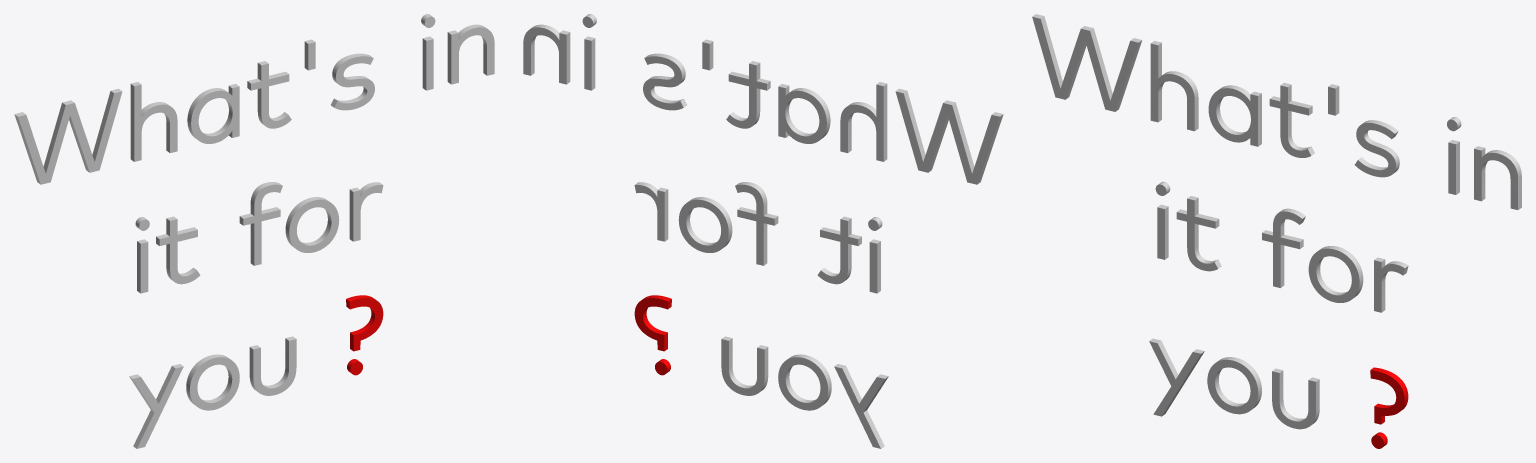
File: Whats in it for you.fbx
3 renders of one model, left to right at view 1: azimuth 30°, elevation 25°; view 2: azimuth 150°, elevation 25°; view 3: azimuth 330°, elevation 25°, orthographic.
Visible parts, largest first — view 1: Text001; view 2: Text001; view 3: Text001.
Part boxes in pixels (x1,y1,x2,y2): Text001: (14,14,494,448); Text001: (523,14,1003,448); Text001: (1032,14,1521,448).
Bounding box in the file's own units: 225 × 164 × 3.
